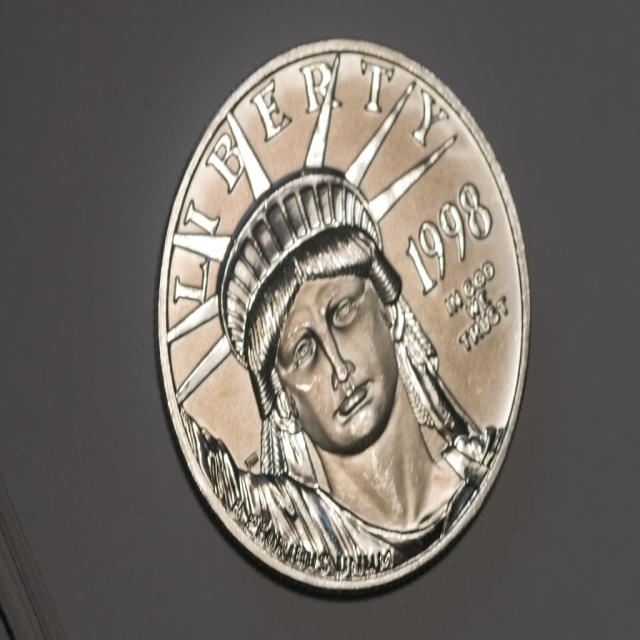Coin: (159, 39, 534, 593)
